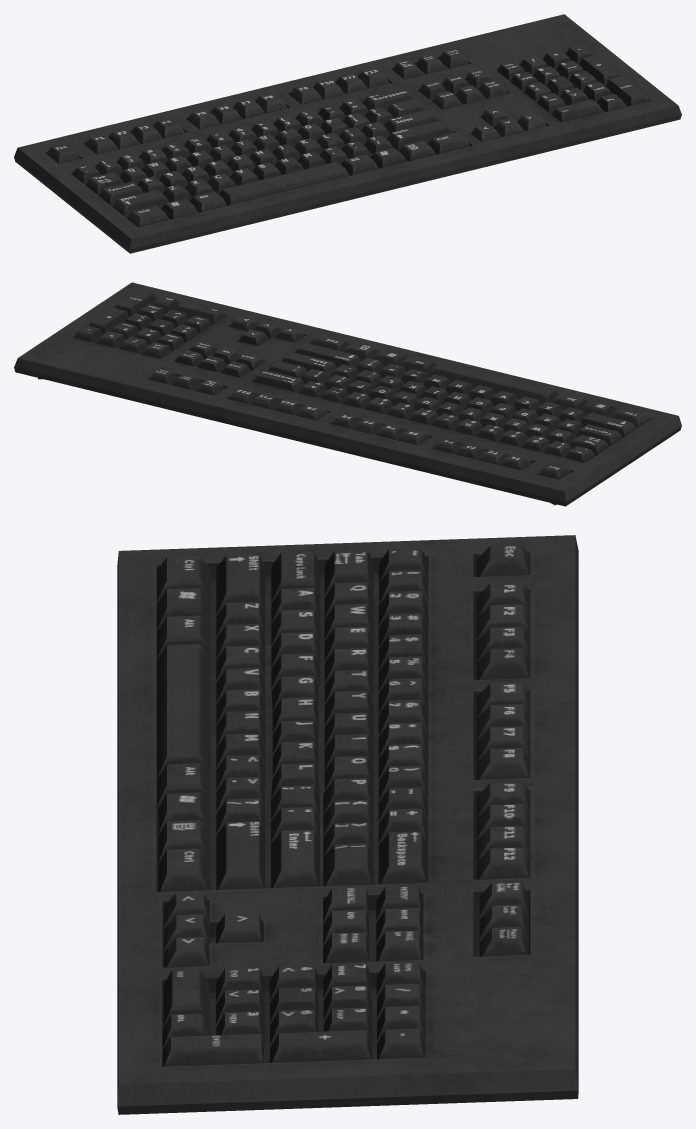
File: keyboard.dae
3 views of the same model, one above another, from view 1: azimuth 30°, elevation 25°; view 2: azimuth 150°, elevation 25°; view 3: azimuth 270°, elevation 25° (orthographic). The views are drawn at different scales.
Parts seen in each view (by area): view 1: Keyboard; view 2: Keyboard; view 3: Keyboard.
Part boxes in pixels (<box>): Keyboard: <box>14,14,681,253</box>; Keyboard: <box>14,282,681,506</box>; Keyboard: <box>117,535,578,1114</box>.
Bounding box in the file's own units: 0.4555 × 0.1647 × 0.0217.
1 material, 1 textured.
